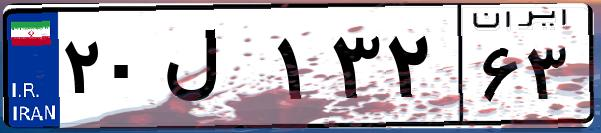0: (110, 28, 158, 98)
1: (270, 28, 330, 110)
2: (385, 28, 445, 110), (57, 26, 110, 100)
3: (330, 28, 385, 110), (525, 38, 570, 115)
6: (475, 38, 525, 113)
ل: (158, 20, 270, 120)
